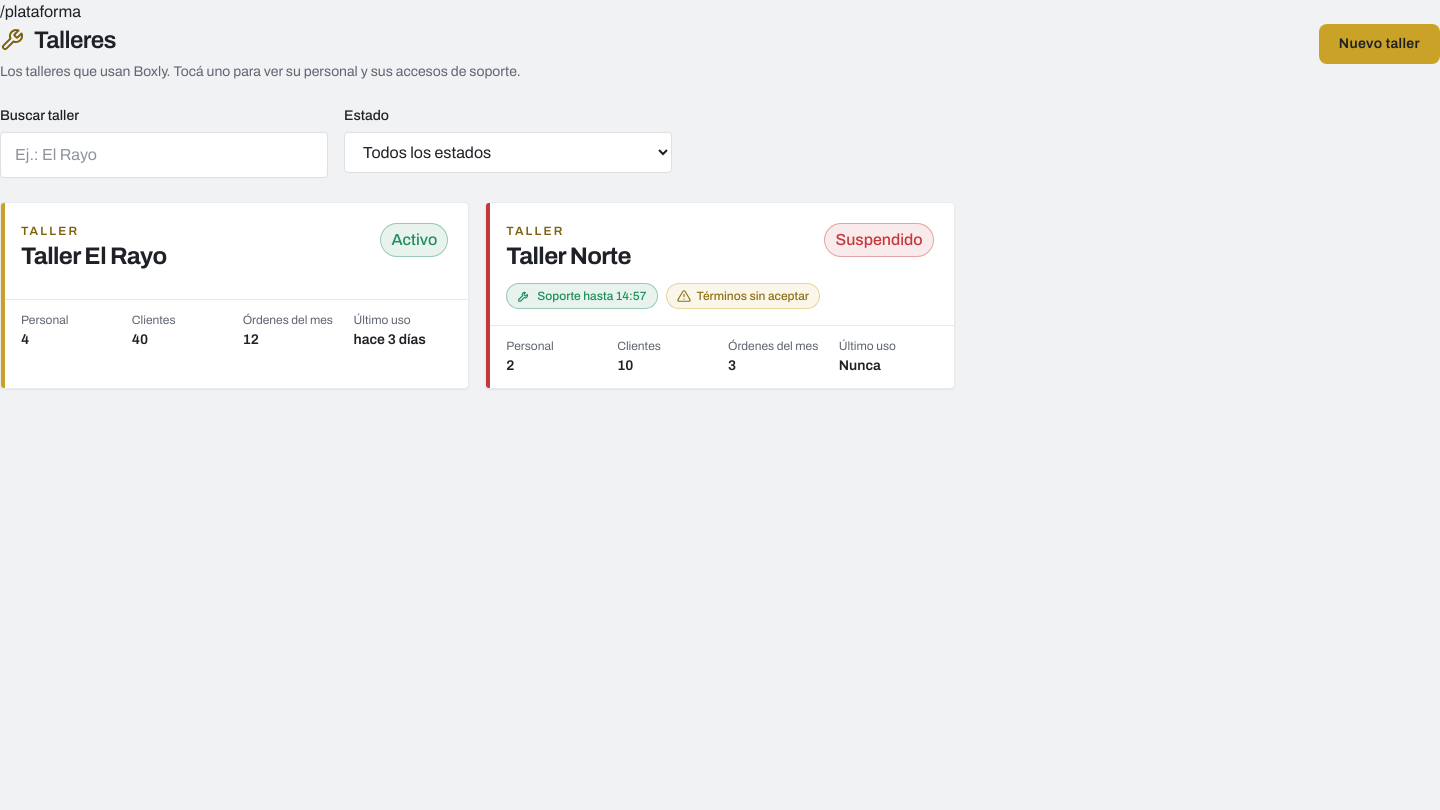
Plataforma › el alta como piloto sin fecha ni motivo no envía y muestra los errores
Expected: the heading "Taller El Rayo" is shown, [21,241,167,271]
Click the button "Nuevo taller".
click(1379, 44)  # box [1319,24,1439,64]
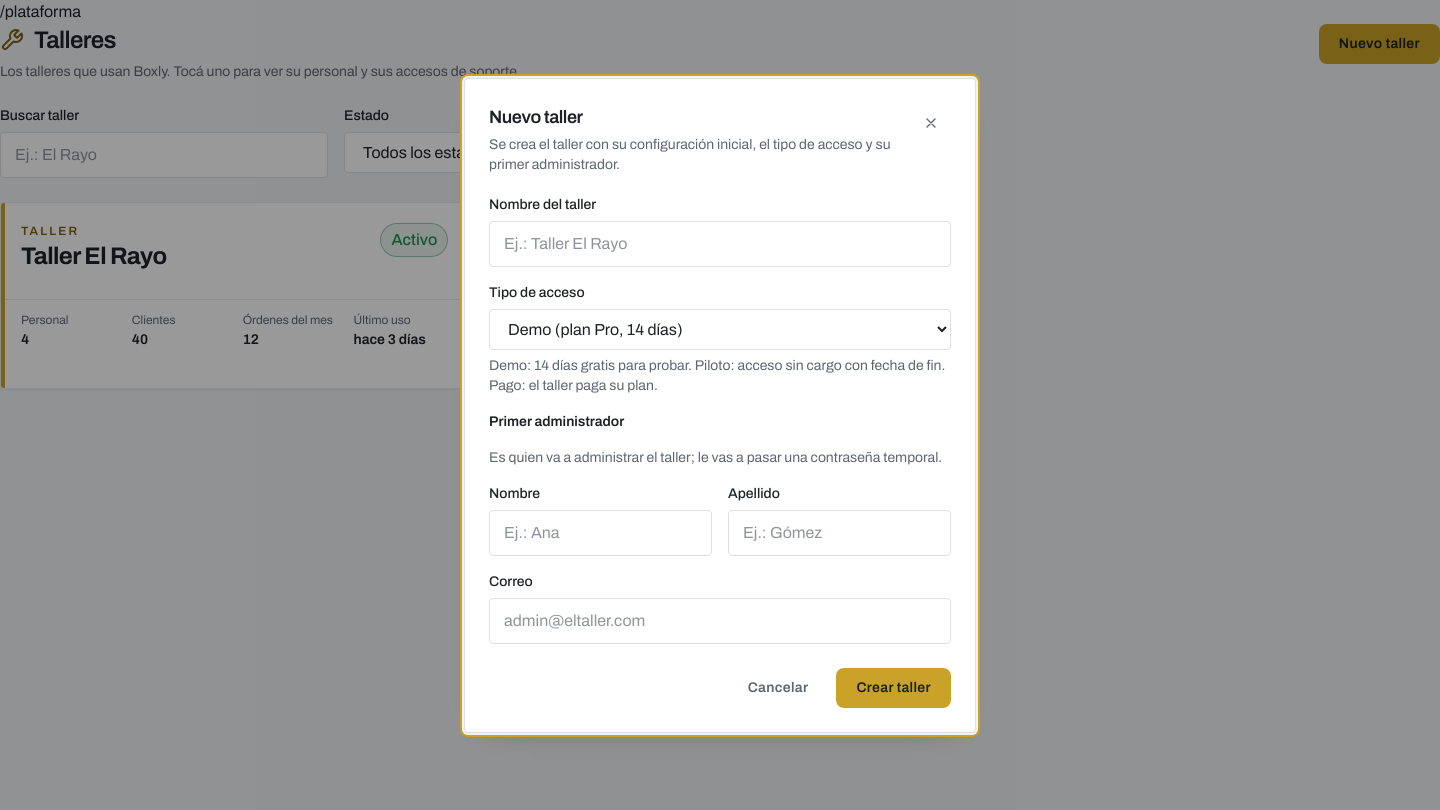
Select "Piloto sin cargo" in the dropdown labelled "Tipo de acceso" at x=720, y=329, box [489,308,951,350]
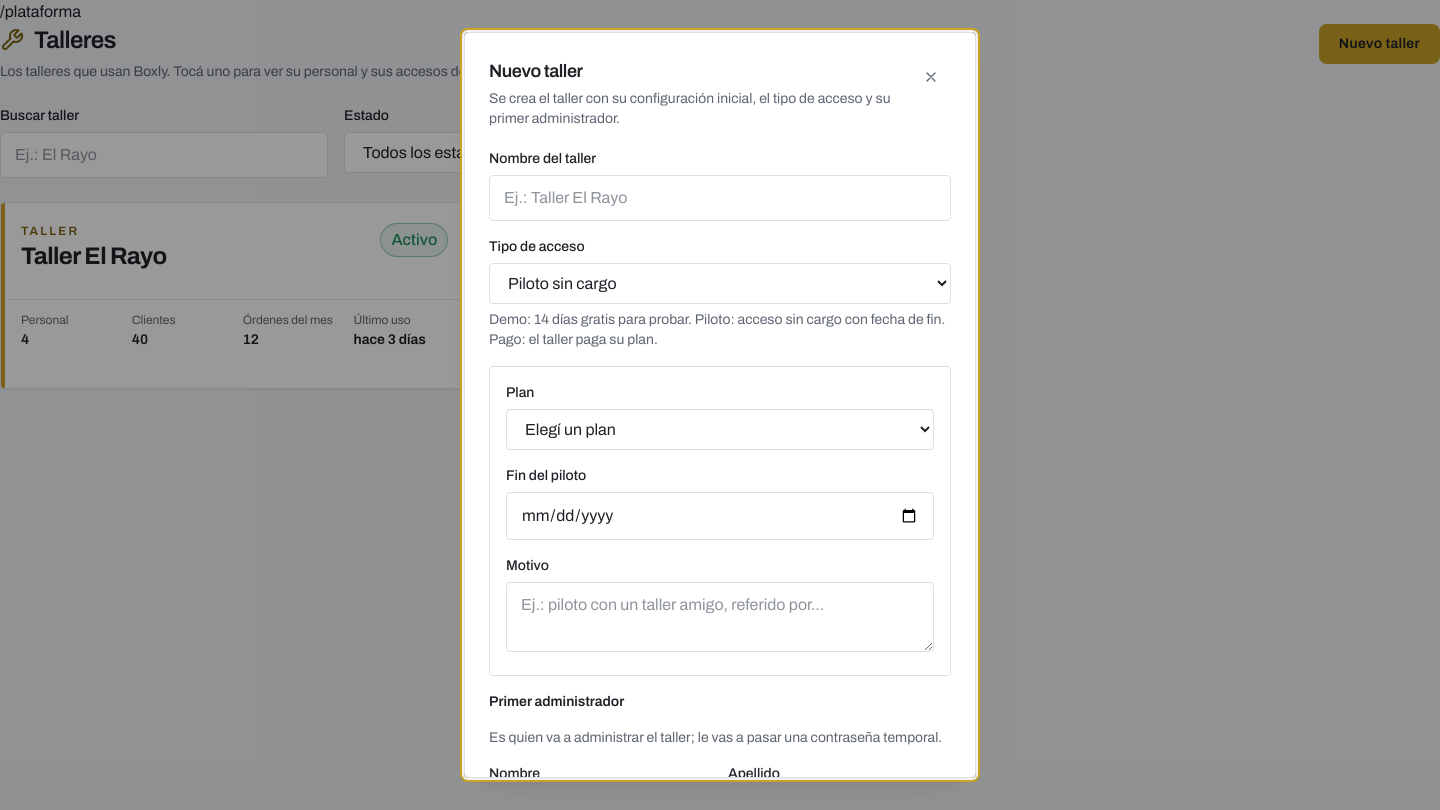
Select "Pro — $ 79.000/mes" in the dropdown labelled "Plan" at x=720, y=430, box [506,409,934,450]
Type "Taller Piloto" into the field labelled "Nombre del taller".
click(720, 198); type("Taller Piloto")  # box [489,175,951,221]
(page scrolled)
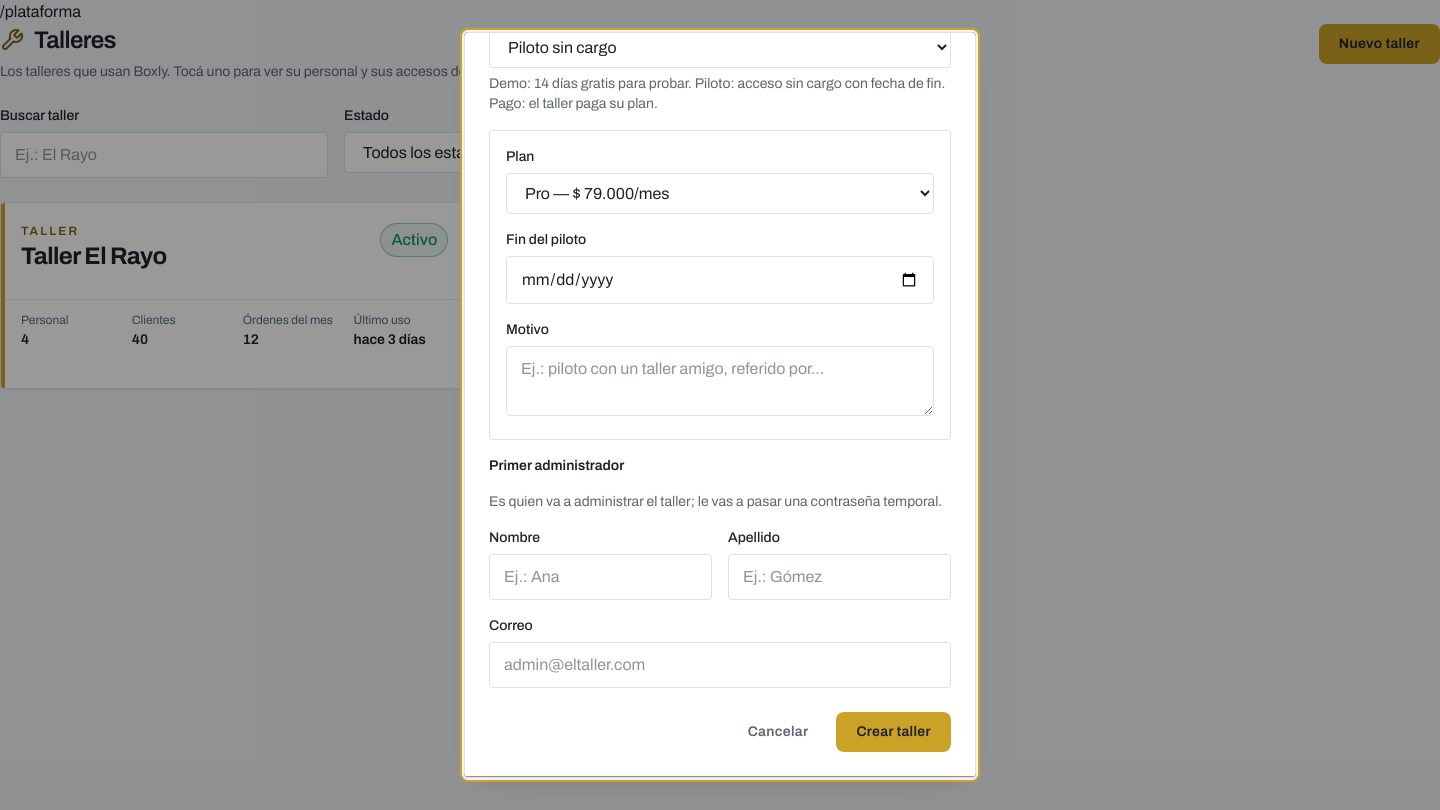
Type "Ana" into the field labelled "Nombre".
click(600, 577); type("Ana")  # box [489,554,712,600]
Type "Pérez" into the field labelled "Apellido".
click(840, 577); type("Pérez")  # box [728,554,951,600]
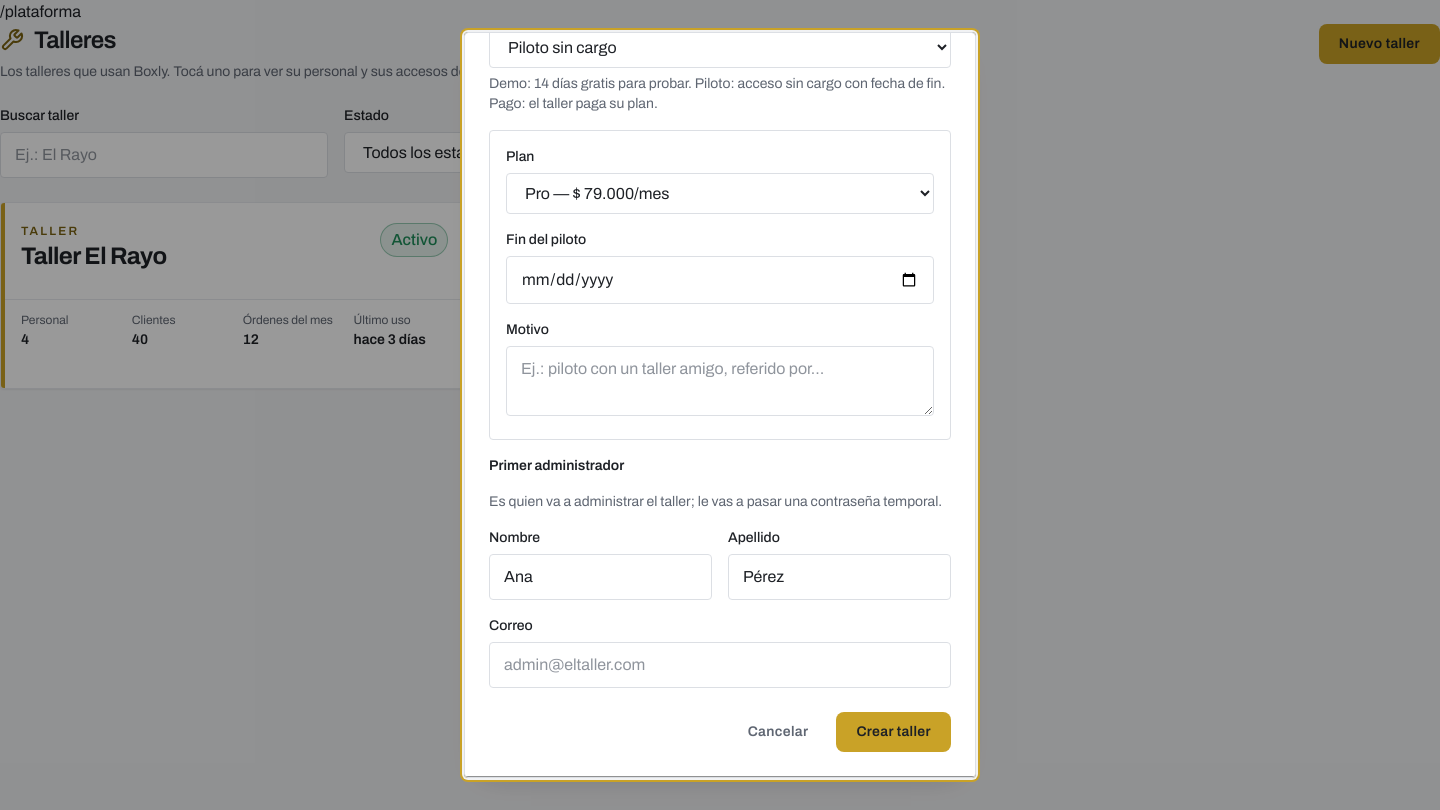
Type "admin@piloto.com" into the field labelled "Correo".
click(720, 665); type("admin@piloto.com")  # box [489,642,951,688]
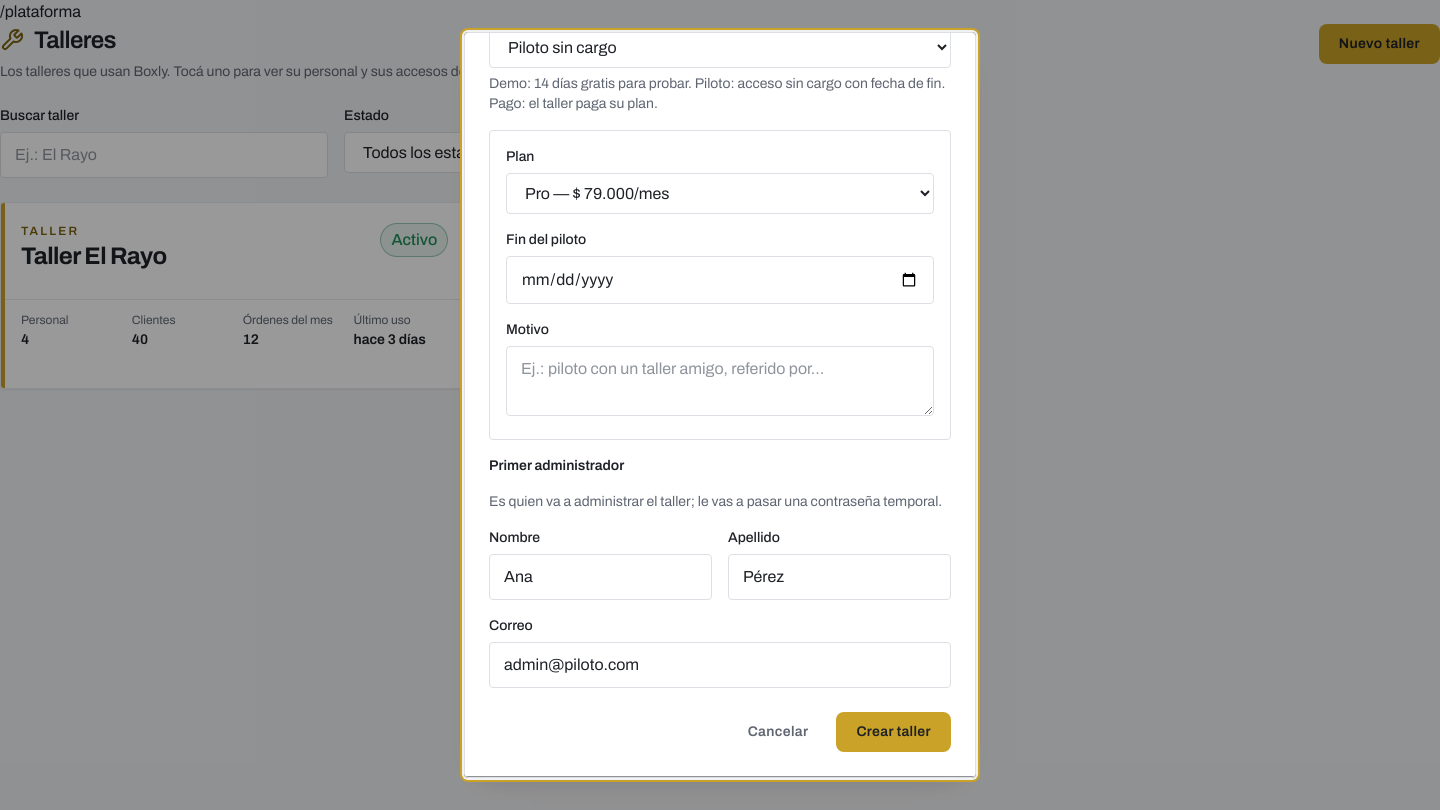
Click the button "Crear taller".
click(894, 732)  # box [836,712,951,752]
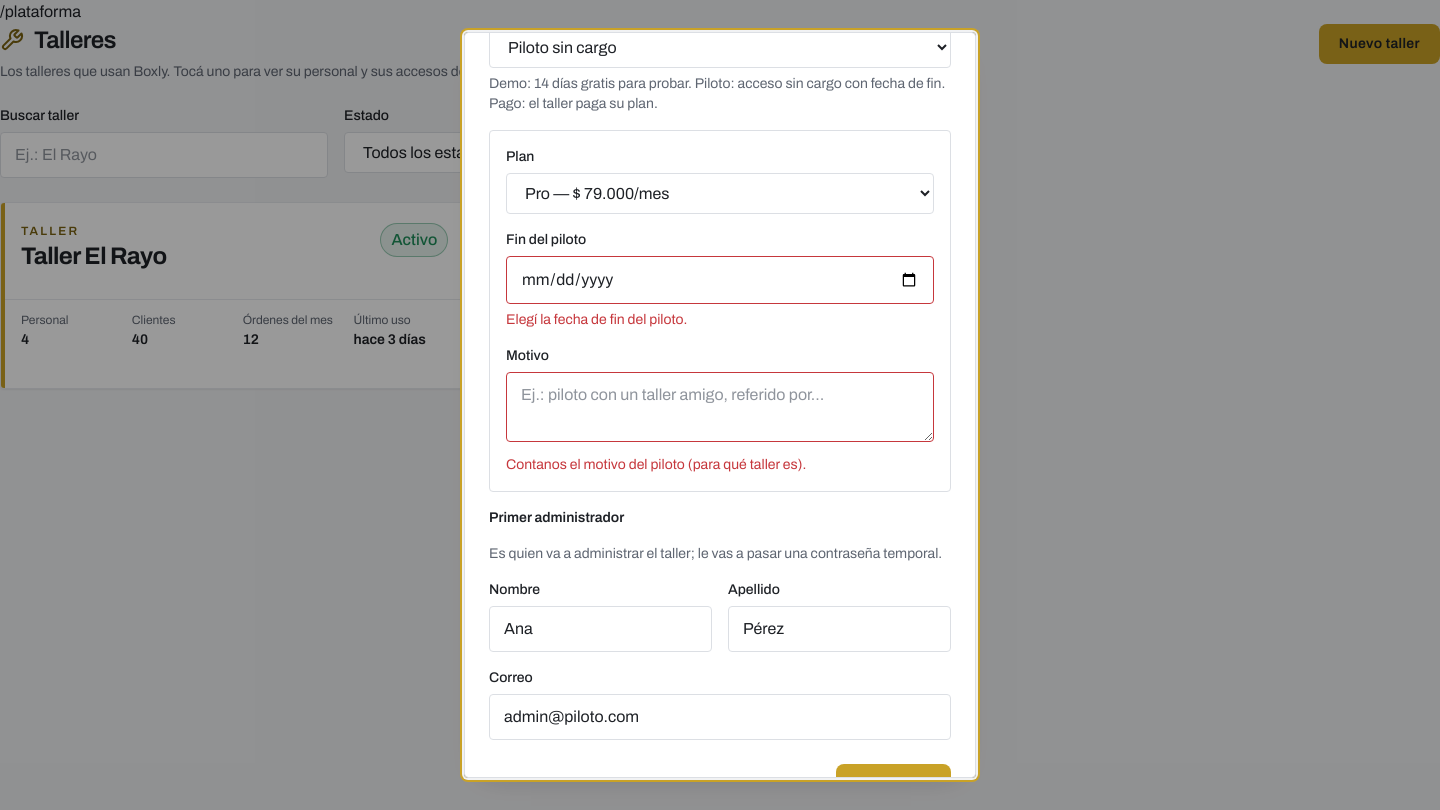
Expected: the text "Elegí la fecha de fin del piloto." is shown, [506,312,688,327]
Expected: the text "Contanos el motivo del piloto (para qué taller es)." is shown, [506,457,806,472]
